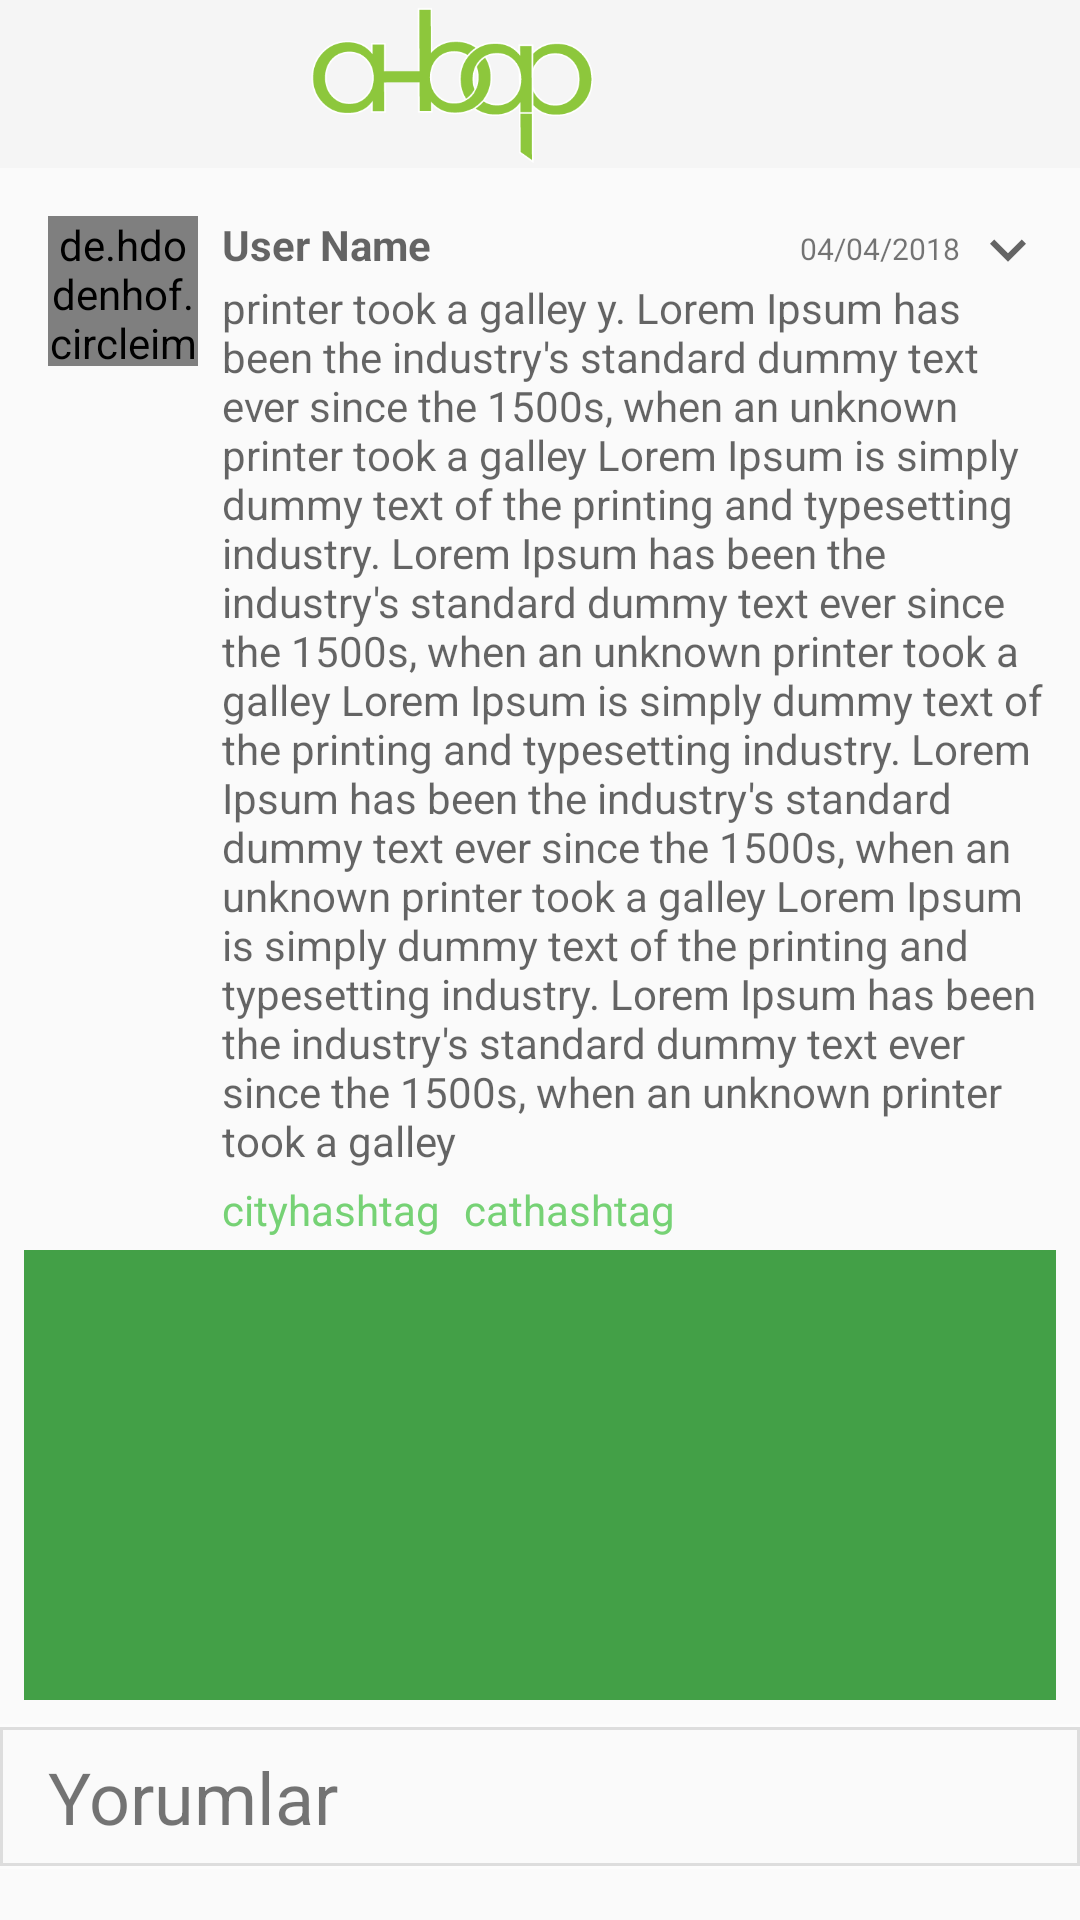

Named icons in this screenshot (1080px x 1920px) and their bounding boxes, (x1, y1, x2, y2):
keyboard arrow down: (990, 239, 1026, 262)
